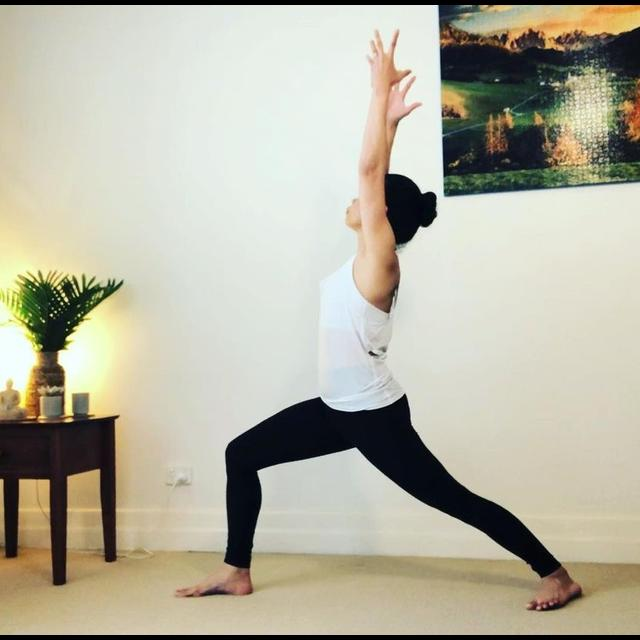Warrior_I: (172, 18, 584, 621)
